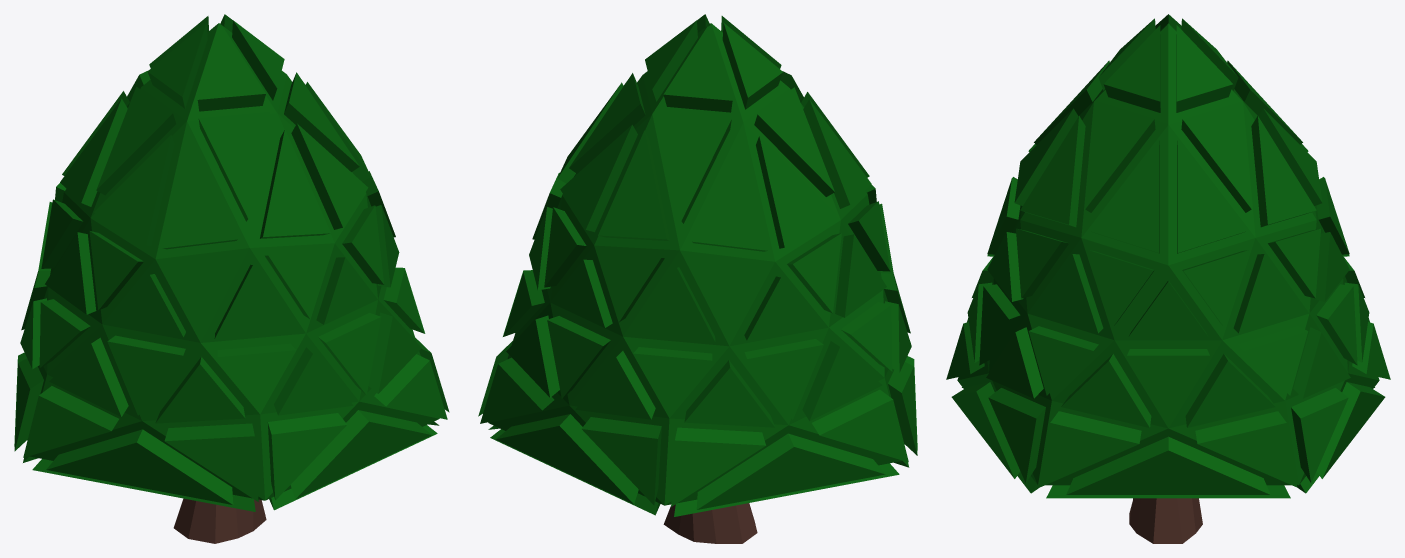
Rendered from Pine_Tree.glb.
3 views of the same model, side by side, from view 1: azimuth 30°, elevation 25°; view 2: azimuth 150°, elevation 25°; view 3: azimuth 270°, elevation 25° (orthographic).
Parts seen in each view (by area): view 1: Tree Trunk; view 2: Tree Trunk; view 3: Tree Trunk.
Part boxes in pixels (x1,y1,x2,y2): Tree Trunk: (14,14,449,543); Tree Trunk: (478,14,917,543); Tree Trunk: (946,14,1390,543).
Size of the model in its own units: 19.18 by 24.66 by 19.7.
